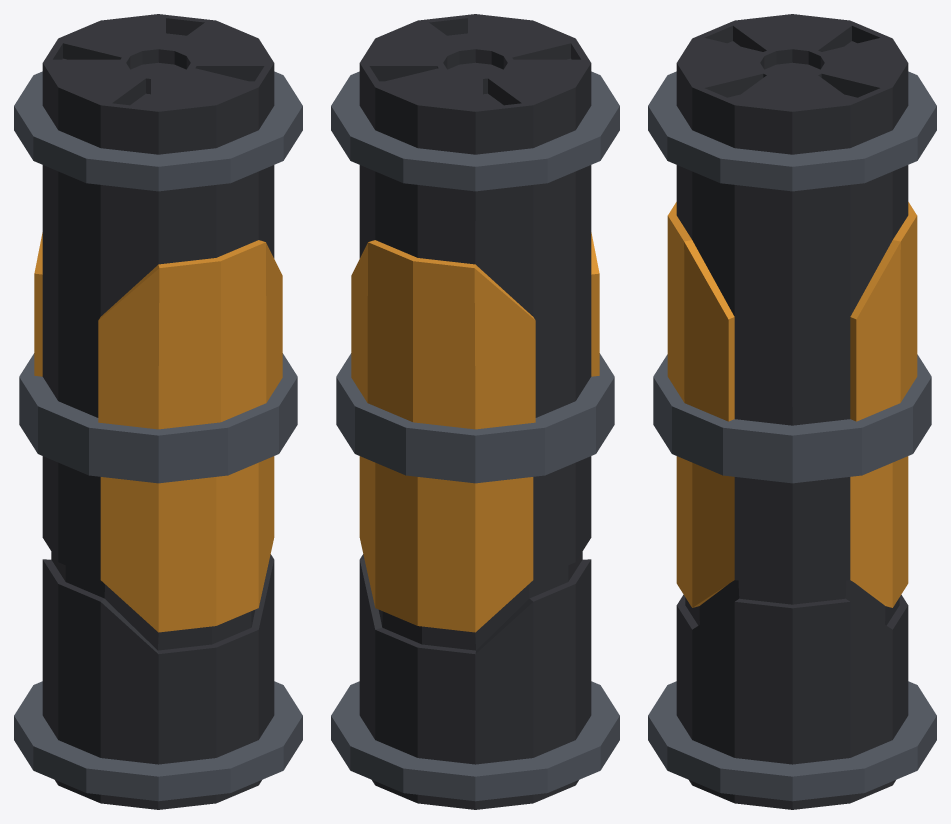
Rendered from SM_Water_dead-end_pipe.glb.
3 renders of one model, left to right at view 1: azimuth 30°, elevation 25°; view 2: azimuth 150°, elevation 25°; view 3: azimuth 270°, elevation 25°, orthographic.
Parts seen in each view (by area): view 1: SM_Water_dead-end_pipe; view 2: SM_Water_dead-end_pipe; view 3: SM_Water_dead-end_pipe.
Boxes of the visible parts, box(x1,y1,x2,y2) form: SM_Water_dead-end_pipe: box(14, 14, 302, 809); SM_Water_dead-end_pipe: box(331, 14, 619, 809); SM_Water_dead-end_pipe: box(648, 14, 936, 809).
Bounding box in the file's own units: 0.7487 × 2 × 0.7487.
1 material, 1 textured.
